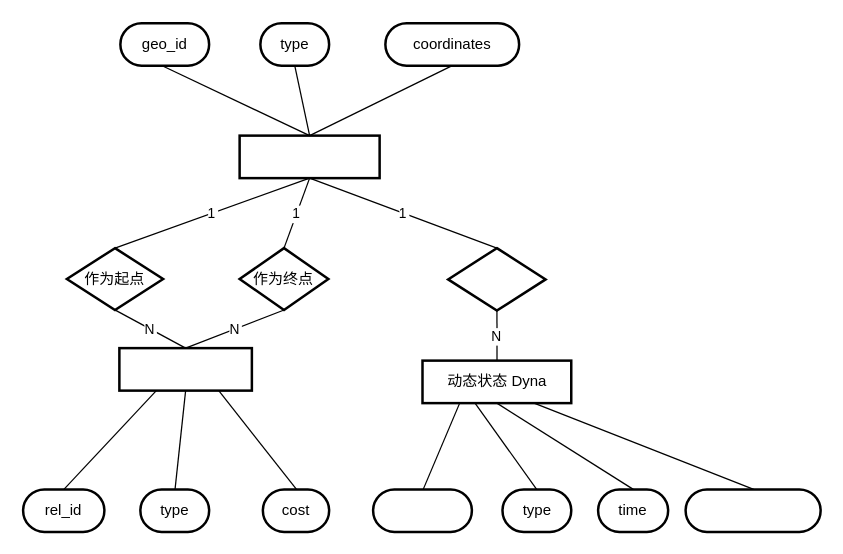
Some shapes in this 843 by 554 pixel diagram are drawn without their labels. Each missing label, with the box of its shape:
dyna_id: (371, 488, 472, 532)
traffic_flow: (684, 488, 821, 532)
拥有状态: (446, 246, 546, 311)
空间关系 Rel: (118, 346, 252, 391)
空间实体 Geo: (238, 134, 380, 179)
